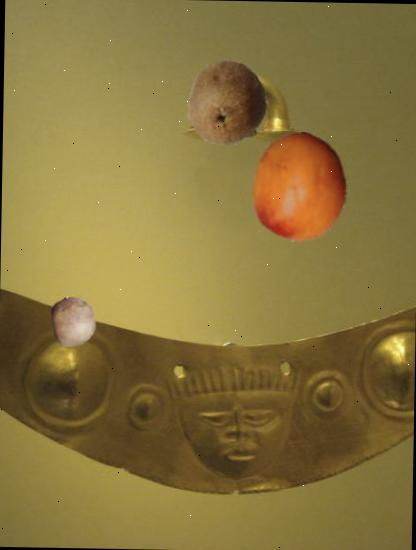Apricot: (244, 131, 356, 244)
Kiwi: (182, 60, 270, 147)
Peach: (46, 295, 98, 347)
